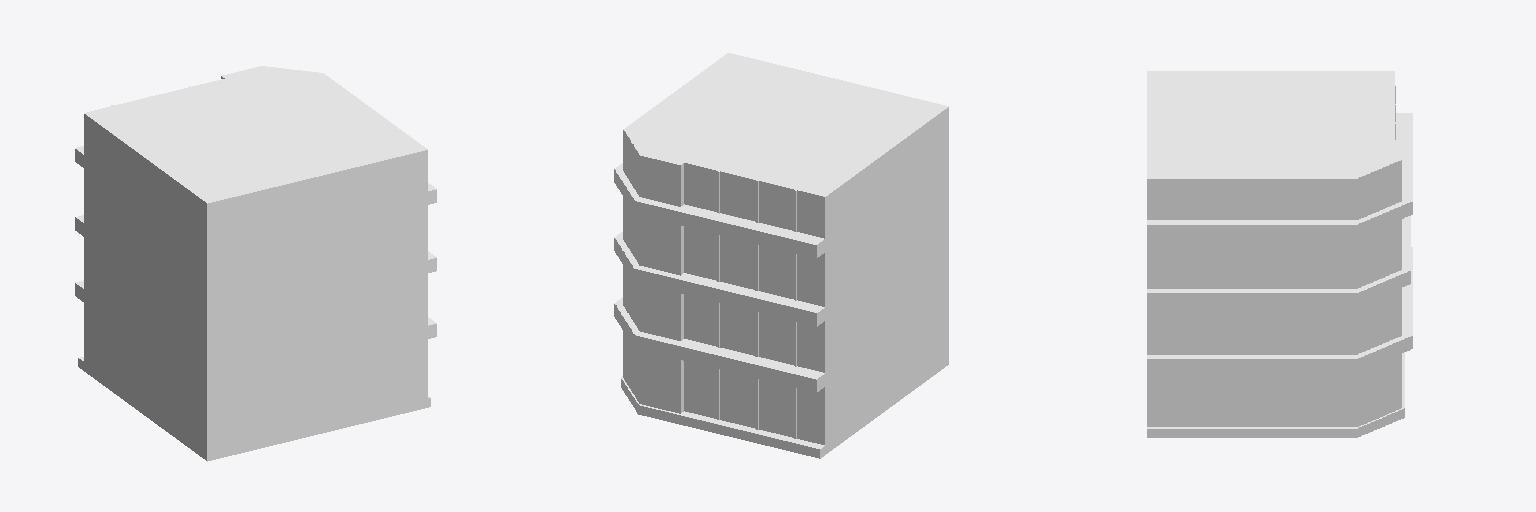
The model's file is skyscraper-10.obj.
The picture shows the model from 3 angles: view 1: azimuth 30°, elevation 25°; view 2: azimuth 150°, elevation 25°; view 3: azimuth 270°, elevation 25°; orthographic projection.
Visible parts, largest first — view 1: object 1; view 2: object 1; view 3: object 1.
Boxes of the visible parts, box(x1,y1,x2,y2) form: object 1: box(75, 66, 436, 461); object 1: box(614, 53, 948, 458); object 1: box(1147, 71, 1412, 437).
Bounding box in the file's own units: 17.9 × 19.2 × 17.9.